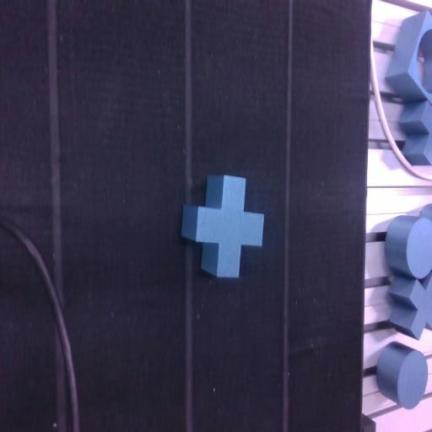cross: (182, 176, 264, 277), (389, 275, 431, 339)
